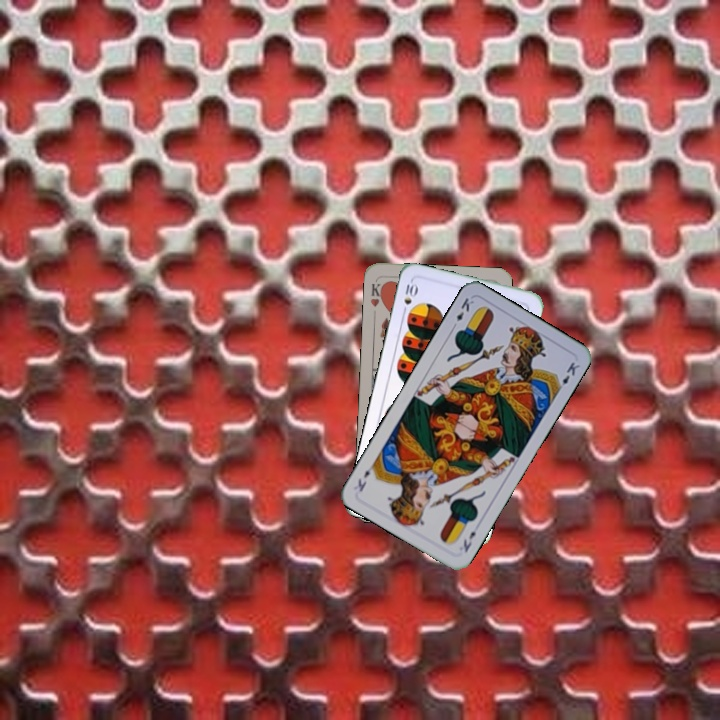EK: (448, 294, 477, 332), (459, 527, 478, 555)
HK: (366, 277, 386, 309)
S10: (398, 280, 420, 317)
